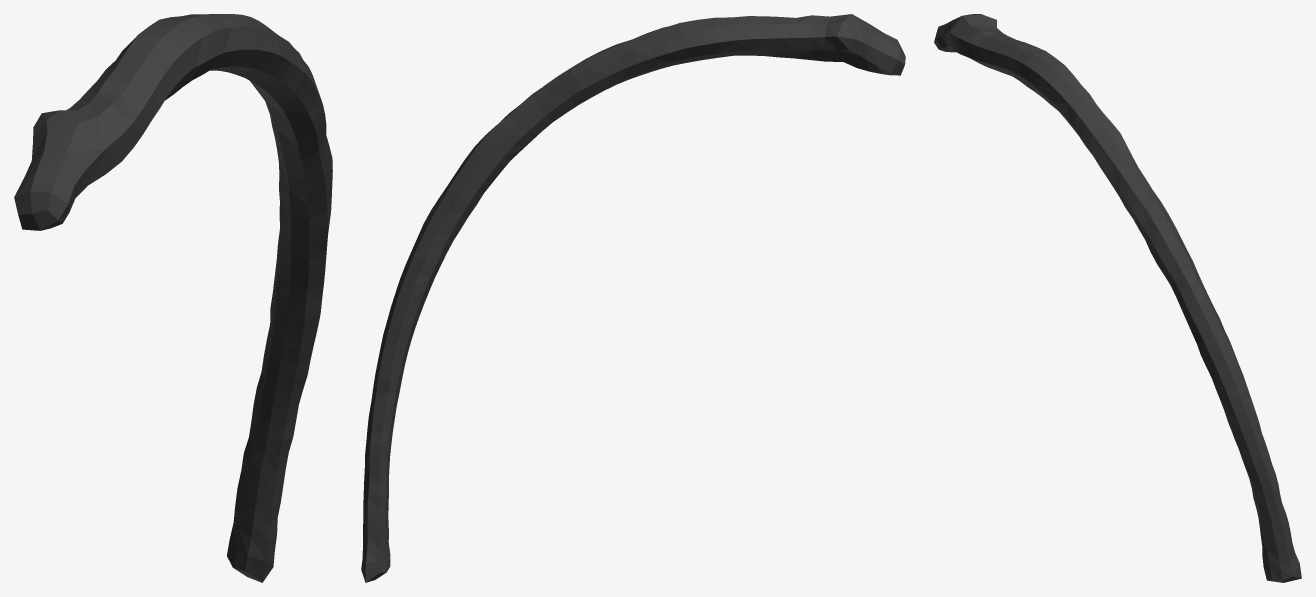
The model's file is Rib_12.glb.
3 renders of one model, left to right at view 1: azimuth 30°, elevation 25°; view 2: azimuth 150°, elevation 25°; view 3: azimuth 270°, elevation 25°, orthographic. The views are drawn at different scales.
Parts seen in each view (by area): view 1: Rib_12; view 2: Rib_12; view 3: Rib_12.
Part boxes in pixels (left/top/right/bottom): Rib_12: left=14, top=14, right=332, bottom=582; Rib_12: left=361, top=14, right=905, bottom=582; Rib_12: left=934, top=14, right=1301, bottom=582.
Size of the model in its own units: 4.09 by 5.48 by 4.12.
Materials: 1 (1 with a texture image).
